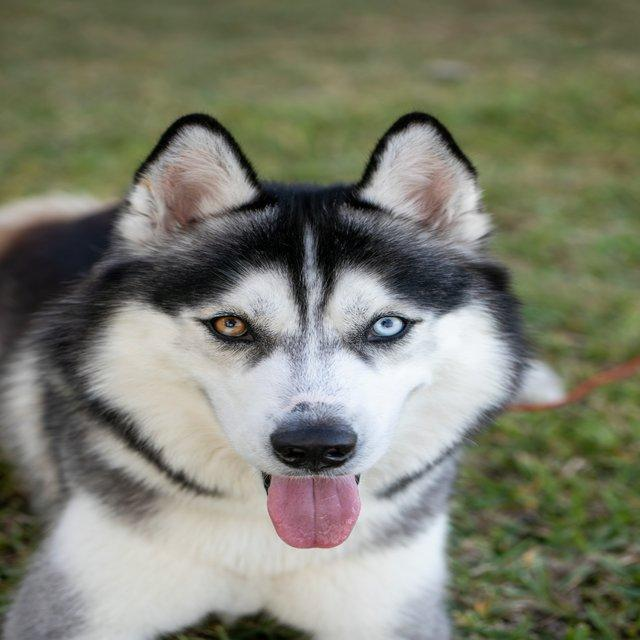husky: (0, 108, 566, 638)
